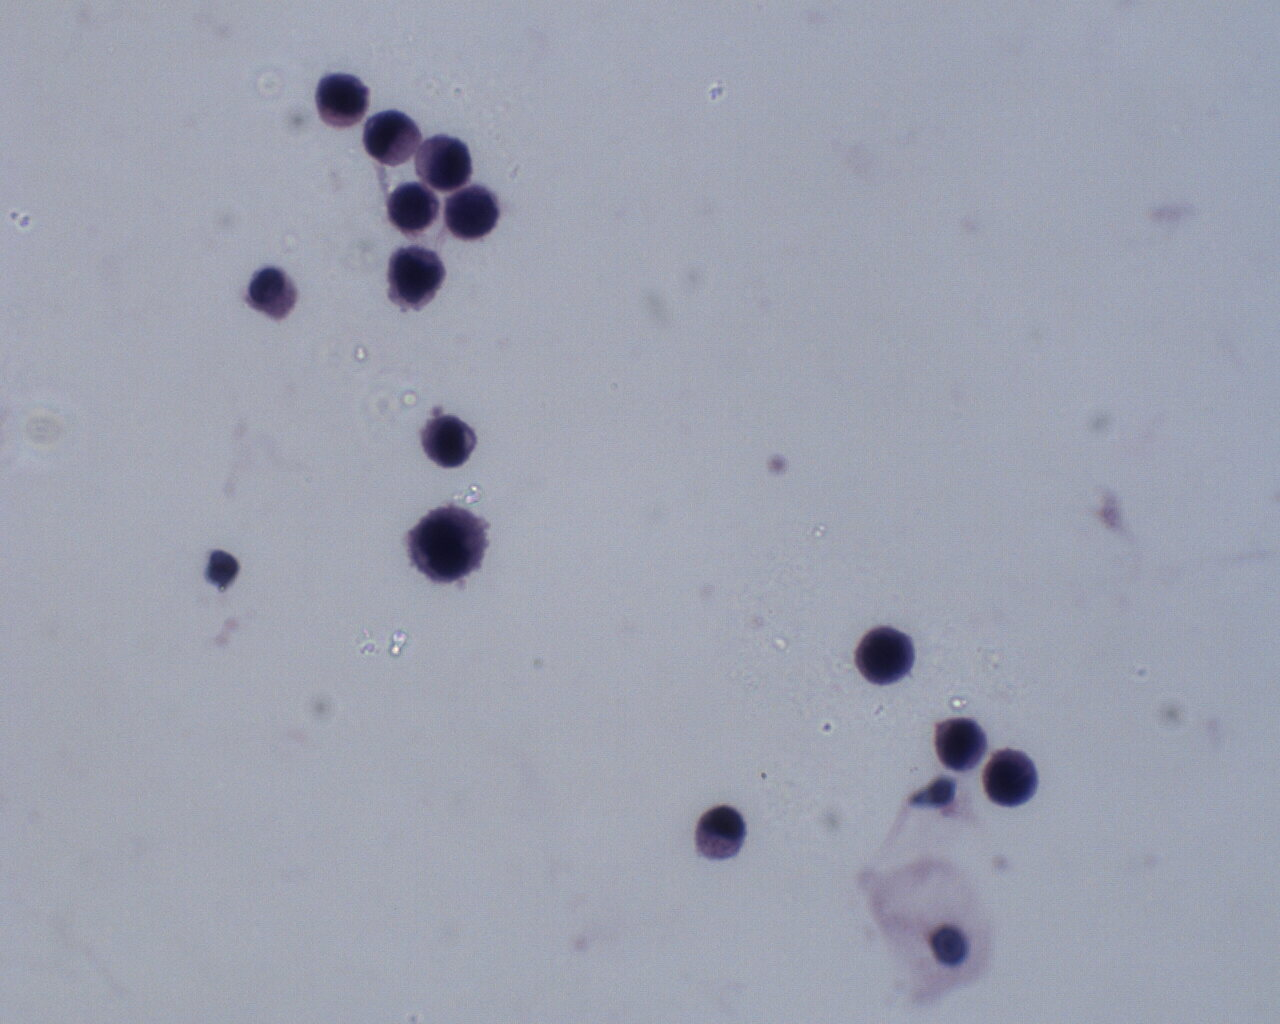ab: (401, 499, 495, 588), (383, 245, 452, 315), (851, 623, 921, 689), (417, 131, 476, 194), (362, 109, 423, 168), (315, 70, 372, 132), (983, 745, 1040, 808), (443, 183, 501, 242), (932, 715, 988, 773), (422, 412, 478, 471), (386, 182, 441, 235)
